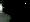person: (1, 3, 3, 13)
